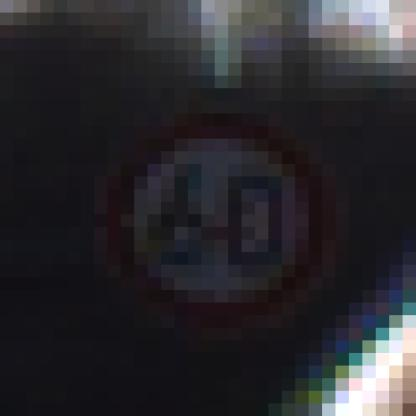Speed Limit 60: (111, 116, 324, 321)
